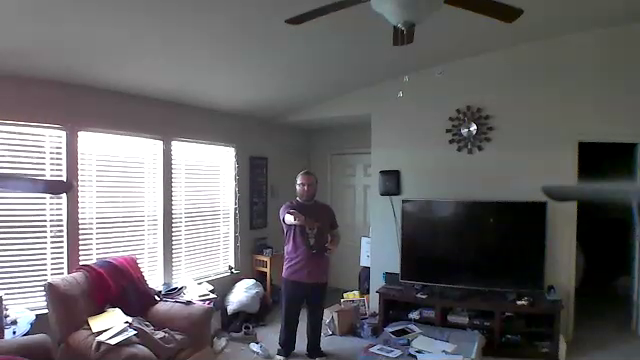land: (285, 208, 307, 225)
